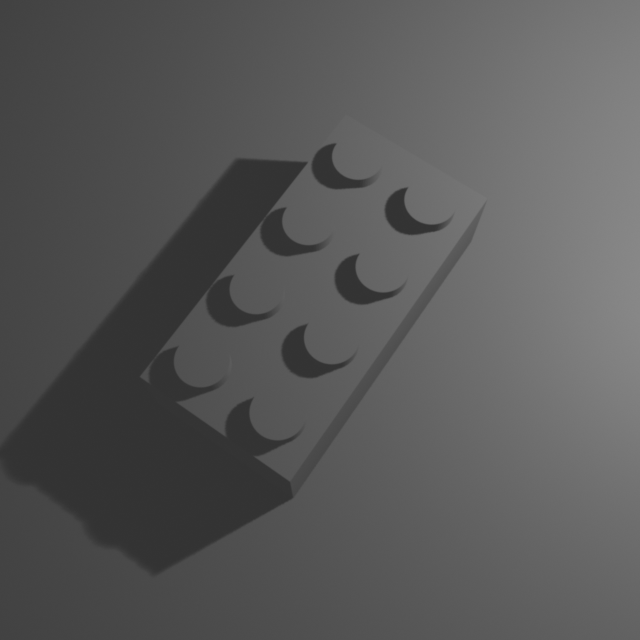lego_2x4: (136, 105, 491, 498)
